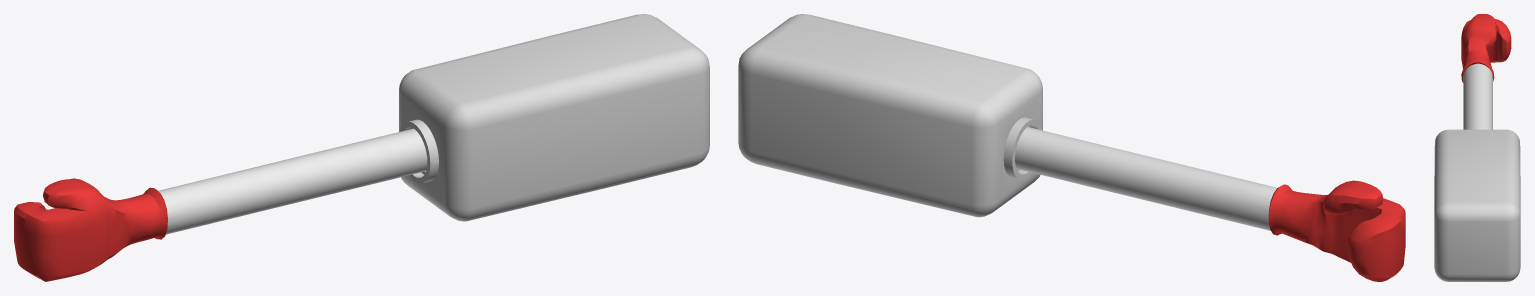
The model's file is punch machine.fbx.
3 views of the same model, side by side, from view 1: azimuth 30°, elevation 25°; view 2: azimuth 150°, elevation 25°; view 3: azimuth 270°, elevation 25° (orthographic). The views are drawn at different scales.
Visible parts, largest first — view 1: Cube.001, Cube; view 2: Cube.001, Cube; view 3: Cube.001, Cube.
Part boxes in pixels (x1=…): Cube.001: x1=399, y1=14, x2=709, y2=221; Cube: x1=14, y1=128, x2=427, y2=281; Cube.001: x1=738, y1=14, x2=1042, y2=217; Cube: x1=1015, y1=127, x2=1405, y2=281; Cube.001: x1=1434, y1=129, x2=1520, y2=281; Cube: x1=1461, y1=14, x2=1511, y2=129.
Size of the model in its own units: 9.25 by 1.59 by 1.59.
